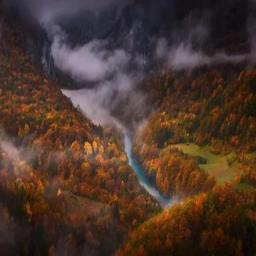Low smoke: (151, 18, 256, 70), (51, 28, 129, 82), (74, 84, 152, 137)
